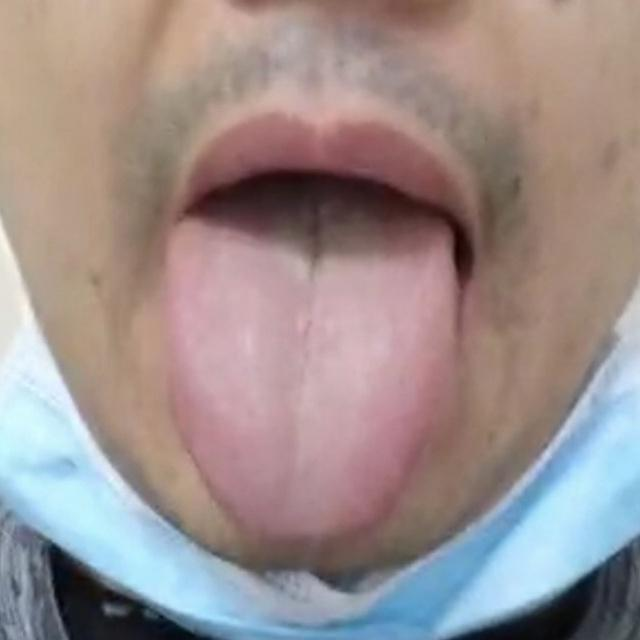baitaishe: (158, 179, 465, 548)
liewenshe: (290, 196, 329, 335)
